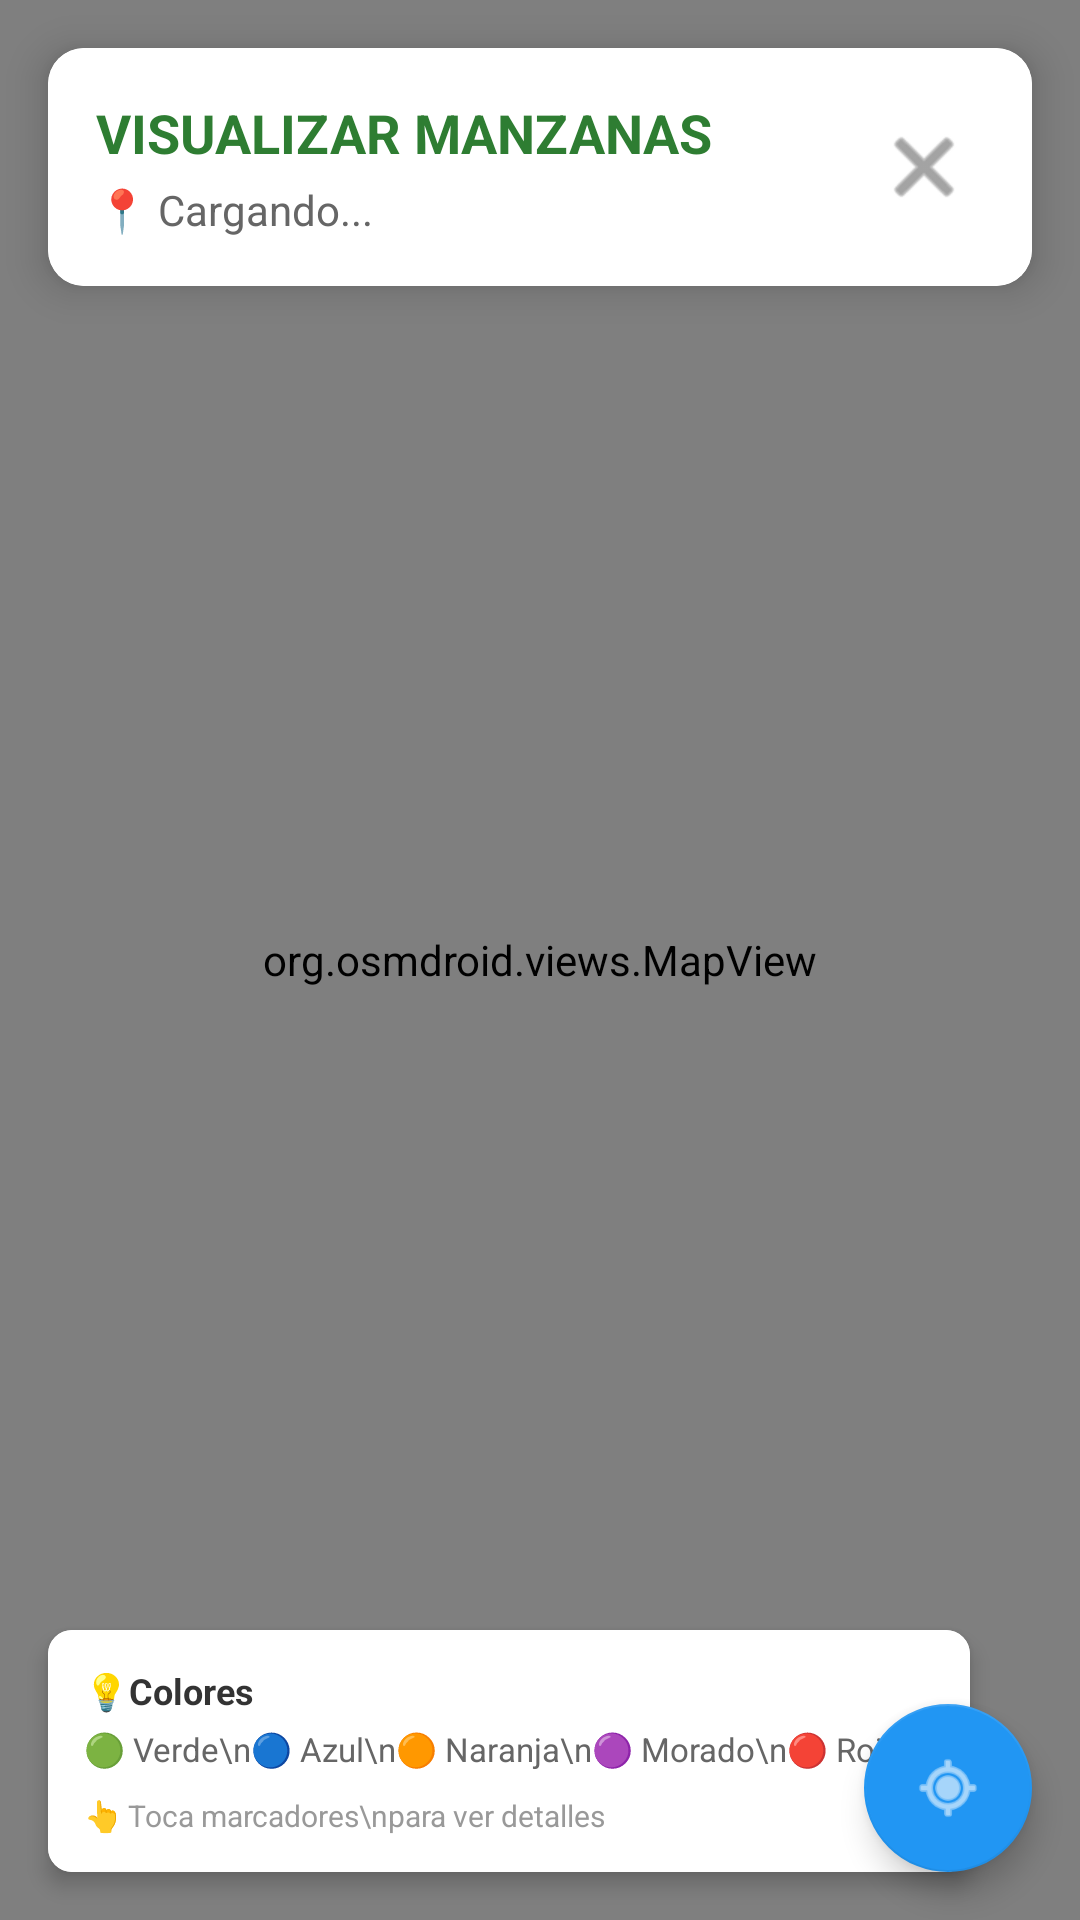

Where to tap for icons on this 1080 x 1920 app screen, as point (x, y):
Cerrar: point (924, 167)
Mi ubicación: point (948, 1788)
